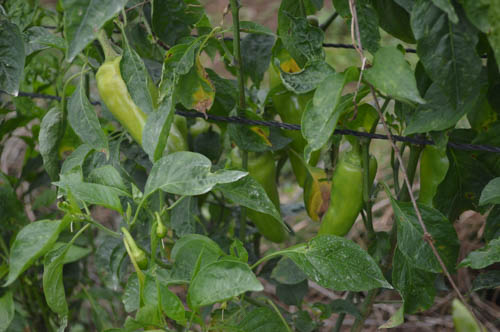ChiliPepper: (99, 59, 183, 161), (274, 69, 316, 183), (324, 158, 377, 240), (239, 151, 285, 242), (418, 148, 443, 209)
